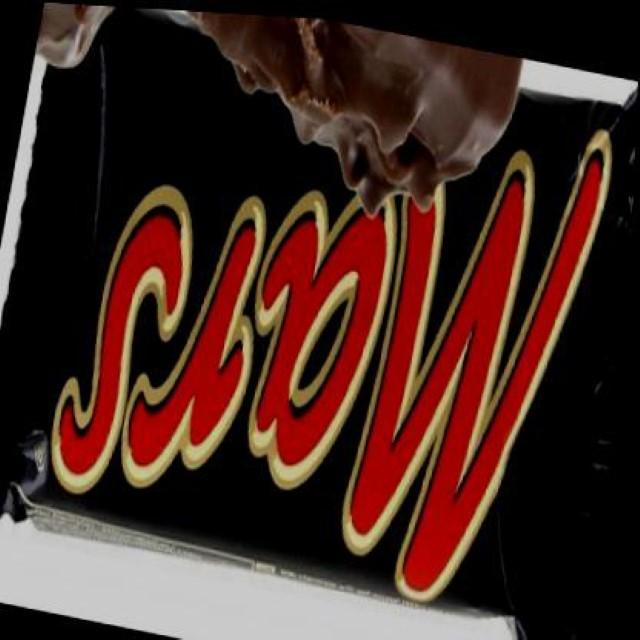mars_chocolate: (71, 56, 640, 630)
